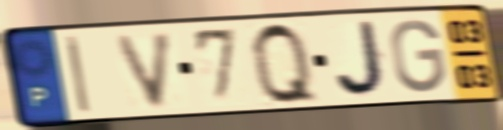7: (191, 25, 241, 108)
G: (387, 17, 448, 96)
I: (62, 32, 95, 117)
J: (332, 17, 392, 100)
Q: (247, 18, 323, 107)
V: (112, 28, 178, 112)
